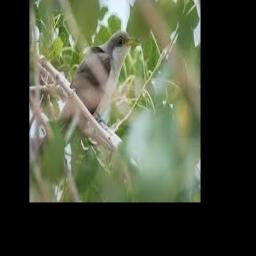Cuckoo: (58, 30, 140, 148)
